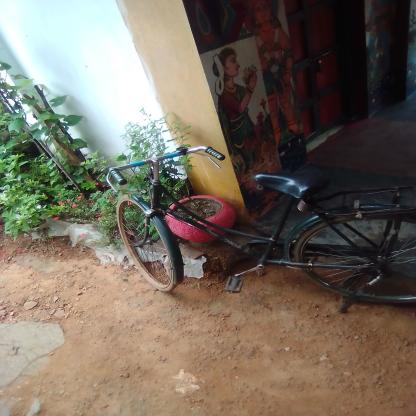bike: (89, 137, 416, 318)
